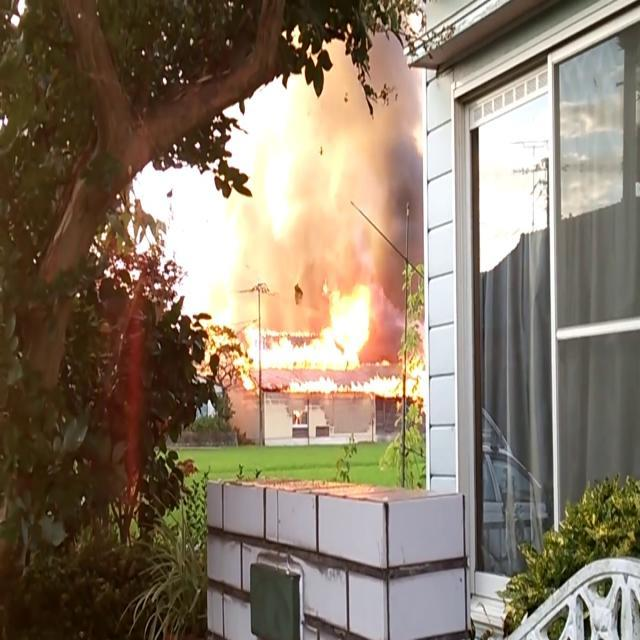Fire: (249, 292, 363, 368), (207, 330, 254, 390), (286, 378, 398, 401), (372, 354, 390, 366)
